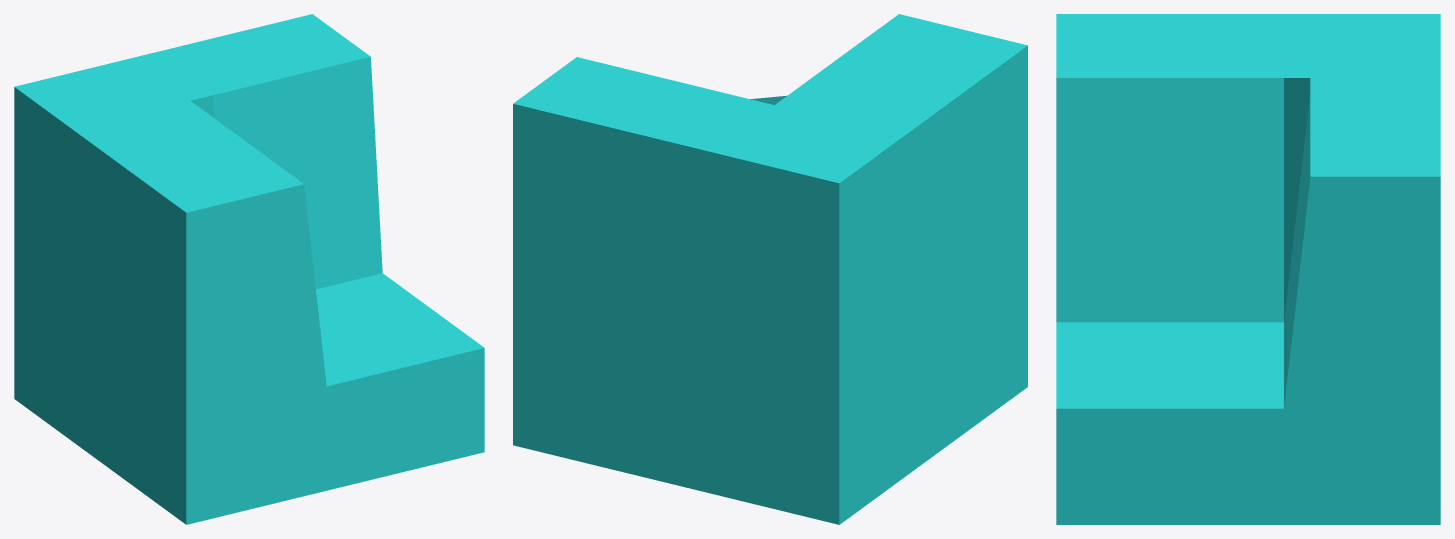
3 views of the same model, side by side, from view 1: azimuth 30°, elevation 25°; view 2: azimuth 150°, elevation 25°; view 3: azimuth 270°, elevation 25° (orthographic). The views are drawn at different scales.
Visible parts, largest first — view 1: Cube; view 2: Cube; view 3: Cube.
Part boxes in pixels (x1,y1,x2,y2): Cube: [14, 14, 484, 524]; Cube: [513, 14, 1027, 524]; Cube: [1056, 14, 1440, 524].
Size of the model in its own units: 2 by 2 by 2.
